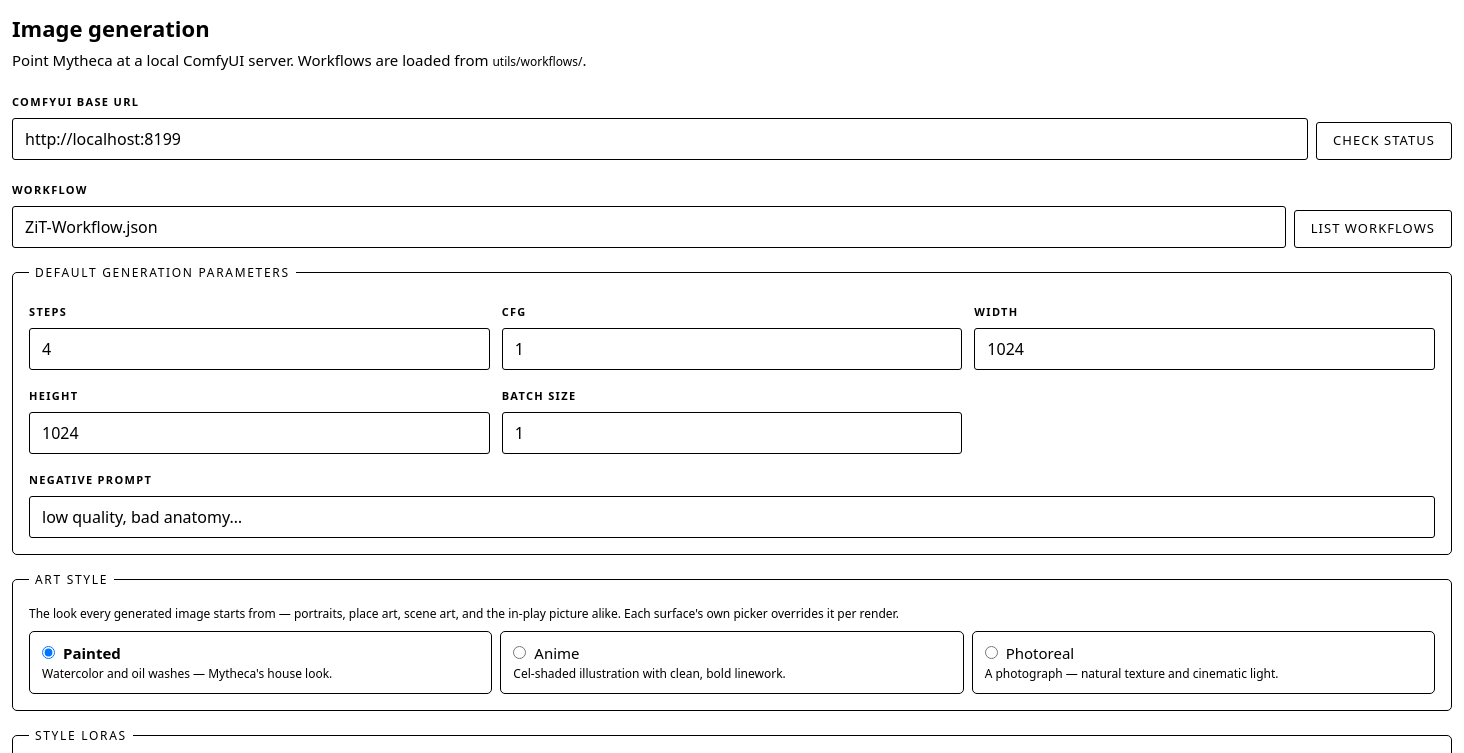
Scenario: ImageModelsTab › surfaces a status error
Click the button "Check status" at (1384, 141), box [1316, 122, 1452, 160]
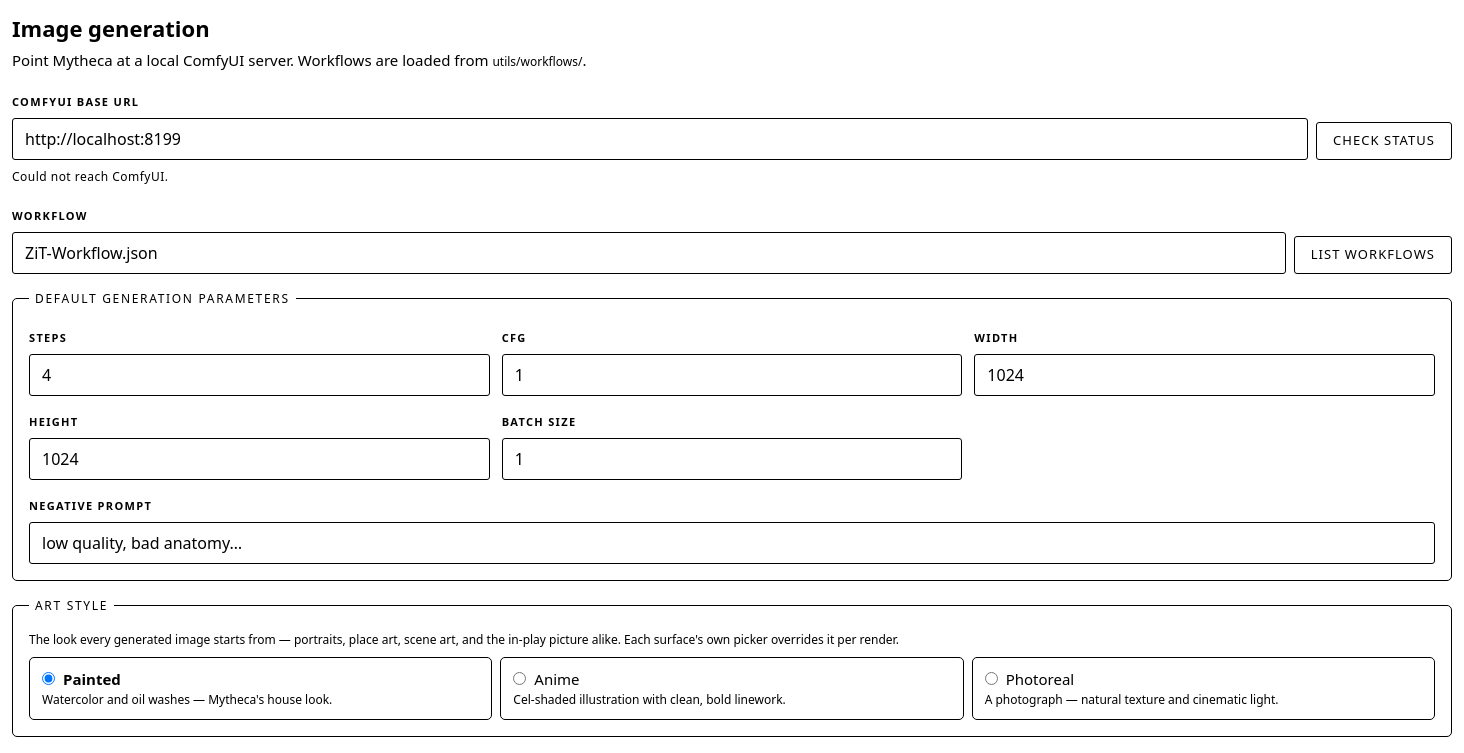
Check: the text "Could not reach ComfyUI." is shown, box [12, 168, 168, 184]
